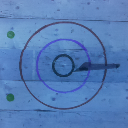Axe Tip: (73, 69, 85, 71)
